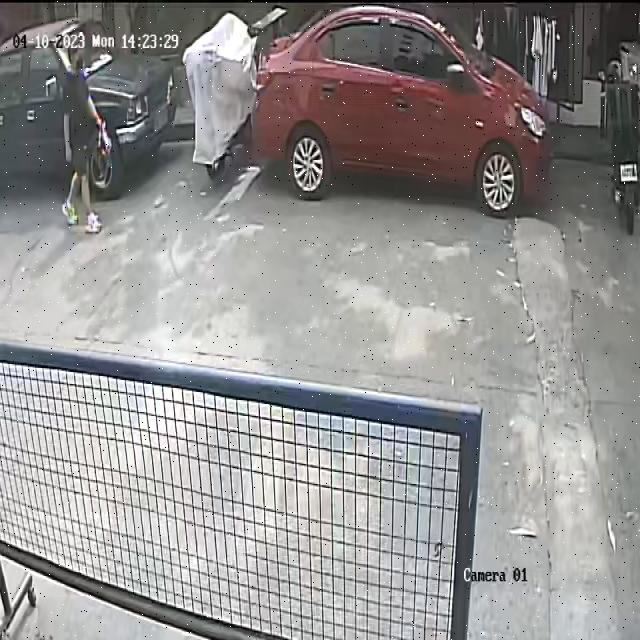human: (63, 50, 111, 234)
trash: (98, 119, 114, 164)
